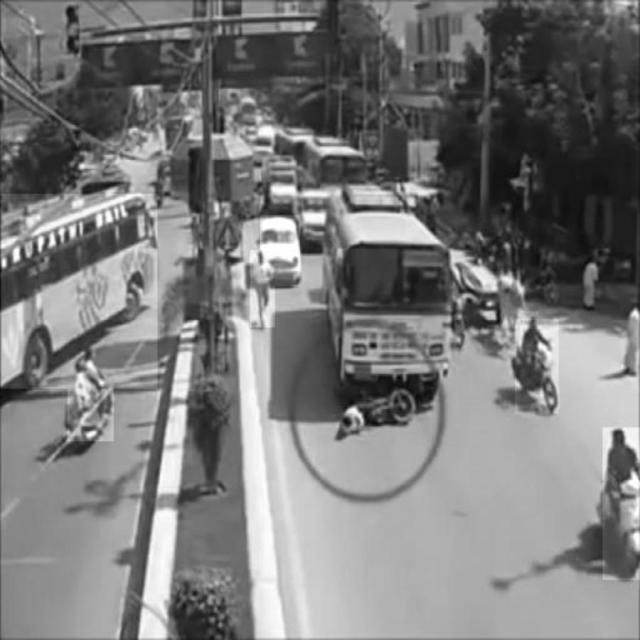accident: (327, 193, 453, 433)
person: (250, 250, 275, 327)
vehicle: (2, 194, 158, 389), (603, 428, 640, 580), (68, 343, 114, 441), (515, 319, 559, 413), (260, 215, 301, 286)
